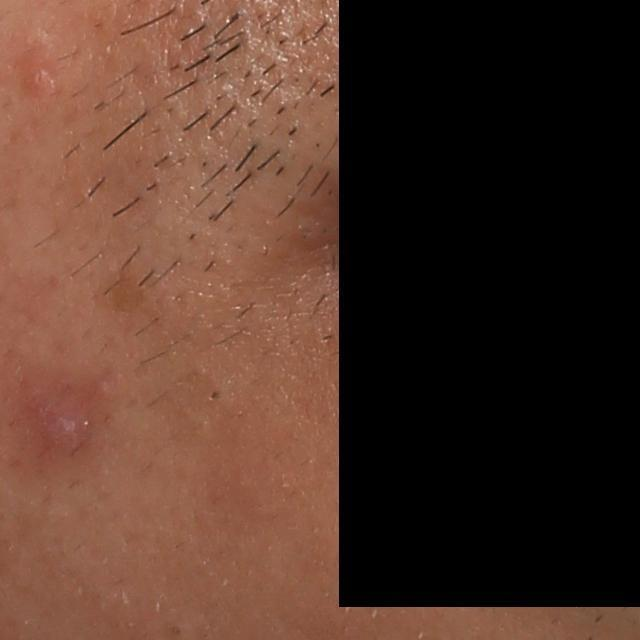comedo: (204, 386, 224, 407)
papule: (35, 395, 87, 455), (22, 55, 59, 97)
